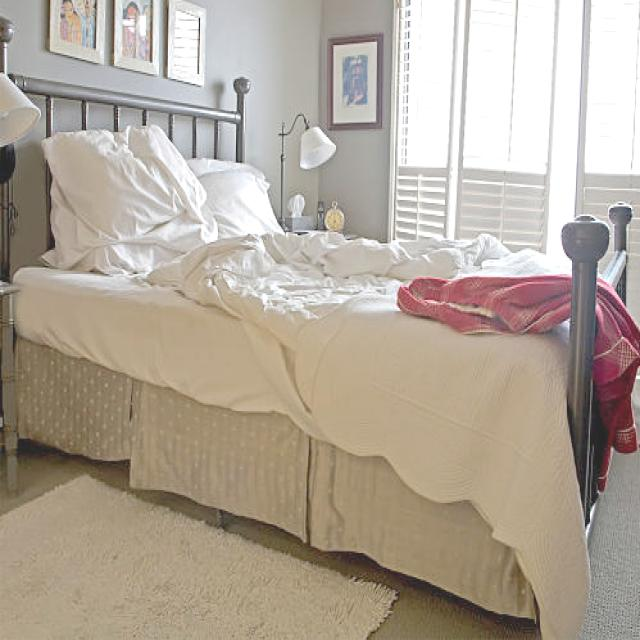bed: (24, 76, 633, 584)
